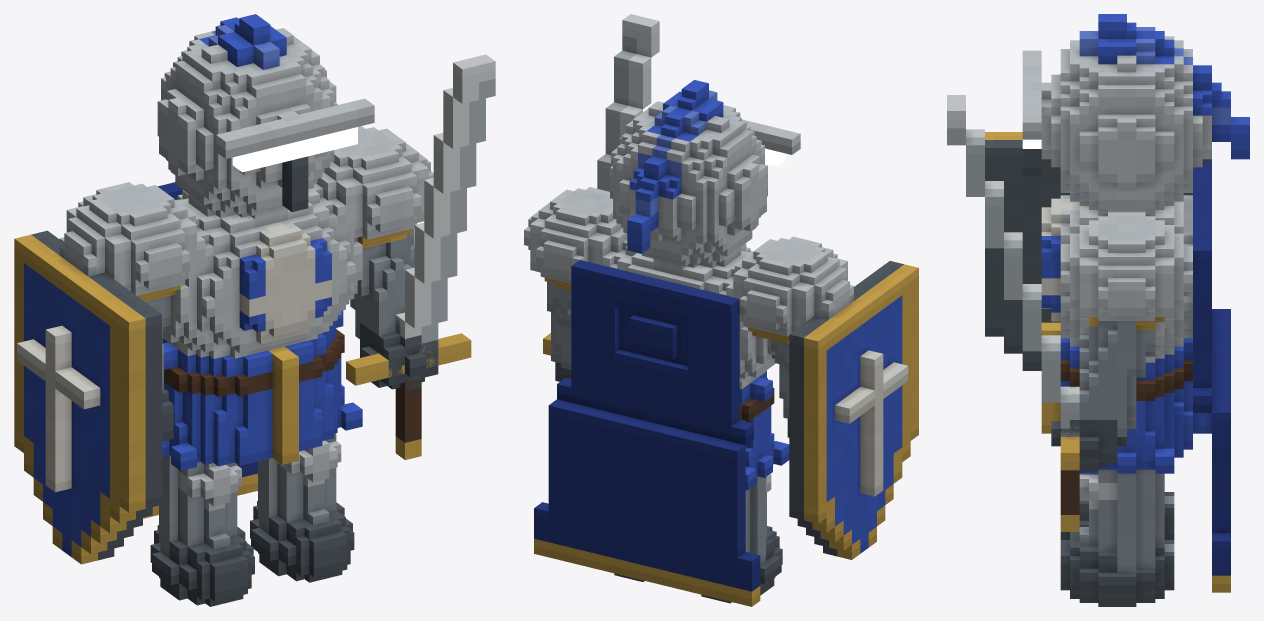
The model's file is u_garde.glb.
3 renders of one model, left to right at view 1: azimuth 30°, elevation 25°; view 2: azimuth 150°, elevation 25°; view 3: azimuth 270°, elevation 25°, orthographic. The views are drawn at different scales.
Visible parts, largest first — view 1: garde_body, garde_weapon, garde_glow; view 2: garde_body, garde_weapon; view 3: garde_body, garde_weapon.
Boxes of the visible parts, x1,y1,x2,y2 form: garde_body: (14,14,438,606); garde_weapon: (346,54,495,459); garde_glow: (232,127,357,172); garde_body: (524,80,918,606); garde_weapon: (543,14,659,355); garde_body: (985,14,1249,606); garde_weapon: (947,95,1079,531).
Bounding box in the file's own units: 1.2 × 1.62 × 0.8.
